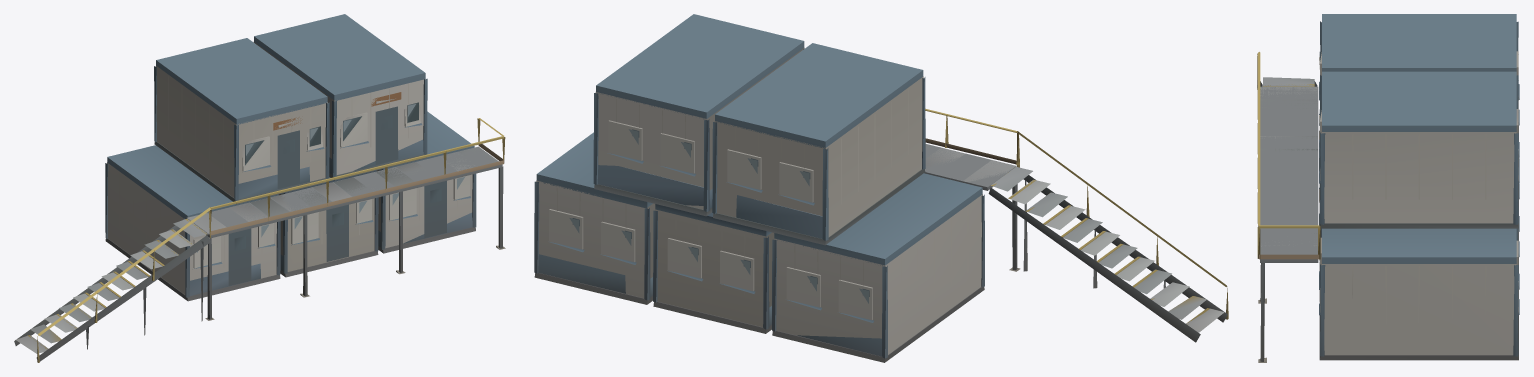
File: cabins.lod1.glb
3 renders of one model, left to right at view 1: azimuth 30°, elevation 25°; view 2: azimuth 150°, elevation 25°; view 3: azimuth 270°, elevation 25°, orthographic. The views are drawn at different scales.
Size of the model in its own units: 19.64 by 6.88 by 7.87.
